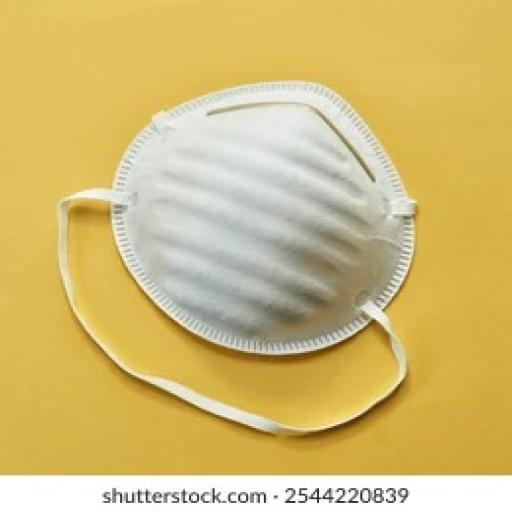mask: (102, 72, 430, 356)
